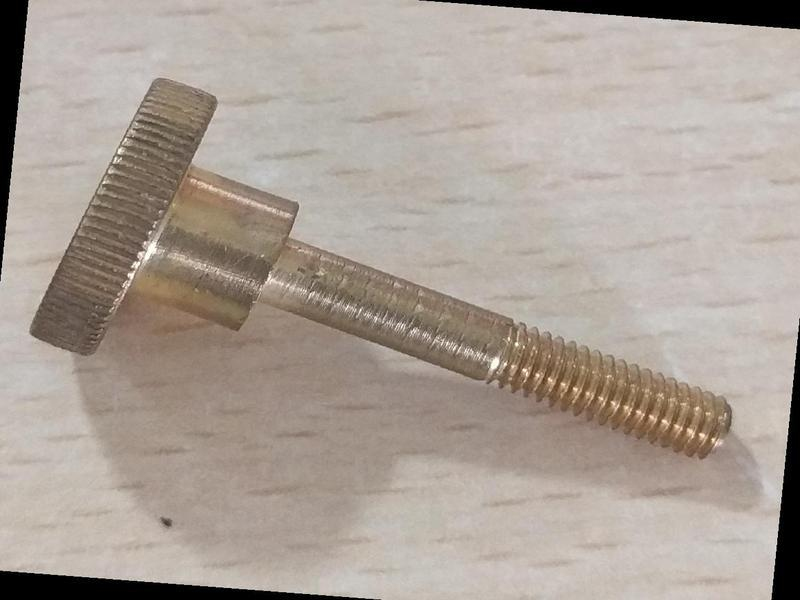bigscrew: (21, 41, 747, 494)
